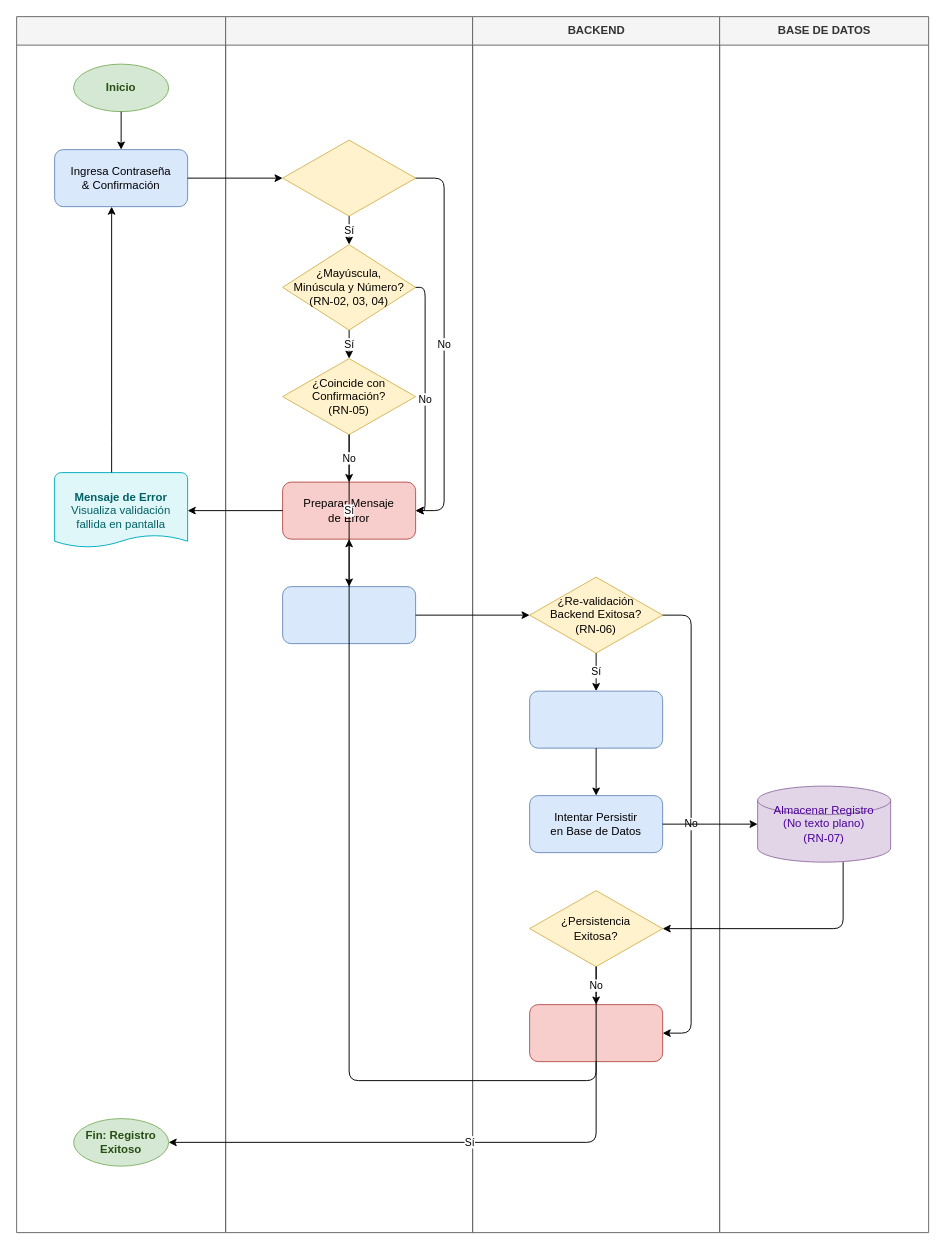
The diagram is 945 pixels wide and 1249 high, and some of its shapes have lost their labels. The shapes that lost their labels are listed below. From the top down, each one's box as (x1, y1, x2, y2) in pixels, then its label:
(282, 139, 416, 216): ¿Longitud >= 8? (RN-01)
(16, 16, 226, 1233): USUARIO
(282, 586, 416, 644): Enviar Datos de Registro de Forma Segura (HTTPS)
(225, 16, 473, 1233): FRONTEND
(529, 690, 663, 748): Cifrar Contraseña con Hash Seguro (RN-08)
(529, 1004, 663, 1062): Manejar Excepción y Generar Error Técnico
